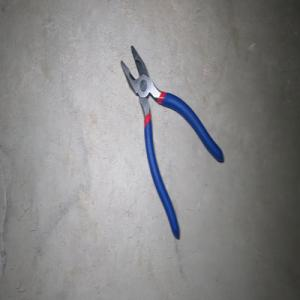Pliers: (120, 44, 224, 239)
